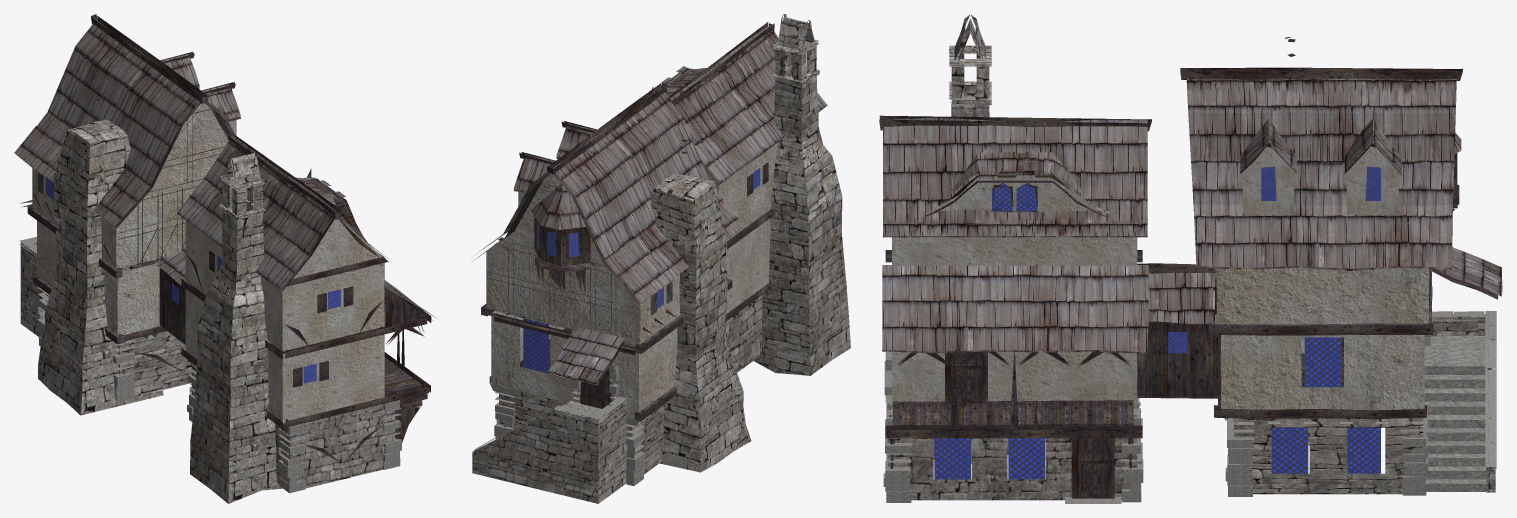
The model's file is casa_medieval_01-lod.glb.
3 views of the same model, side by side, from view 1: azimuth 30°, elevation 25°; view 2: azimuth 150°, elevation 25°; view 3: azimuth 270°, elevation 25° (orthographic). The views are drawn at different scales.
Visible parts, largest first — view 1: BalconyWood; view 2: BalconyWood; view 3: BalconyWood.
Boxes of the visible parts, left/top/right/bottom form: BalconyWood: left=14, top=14, right=435, bottom=503; BalconyWood: left=472, top=14, right=850, bottom=503; BalconyWood: left=879, top=14, right=1502, bottom=503.
Size of the model in its own units: 8.54 by 12.28 by 16.47.
Materials: 13 (13 with a texture image).
